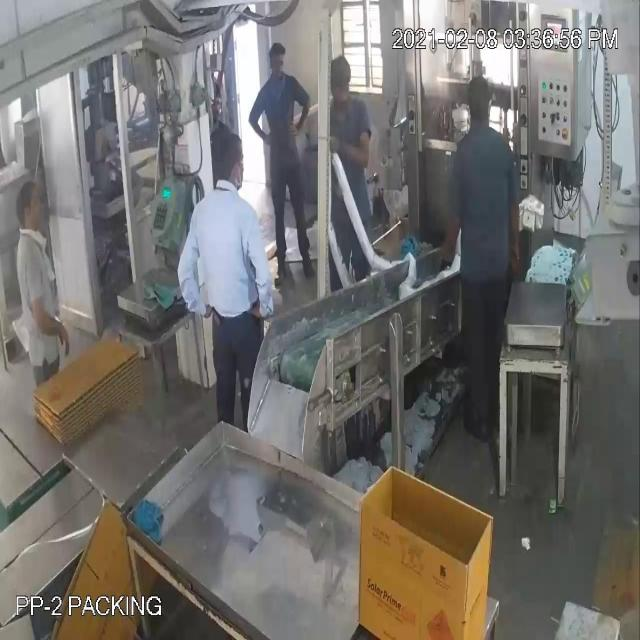No_Gloves: (26, 48, 518, 318)
